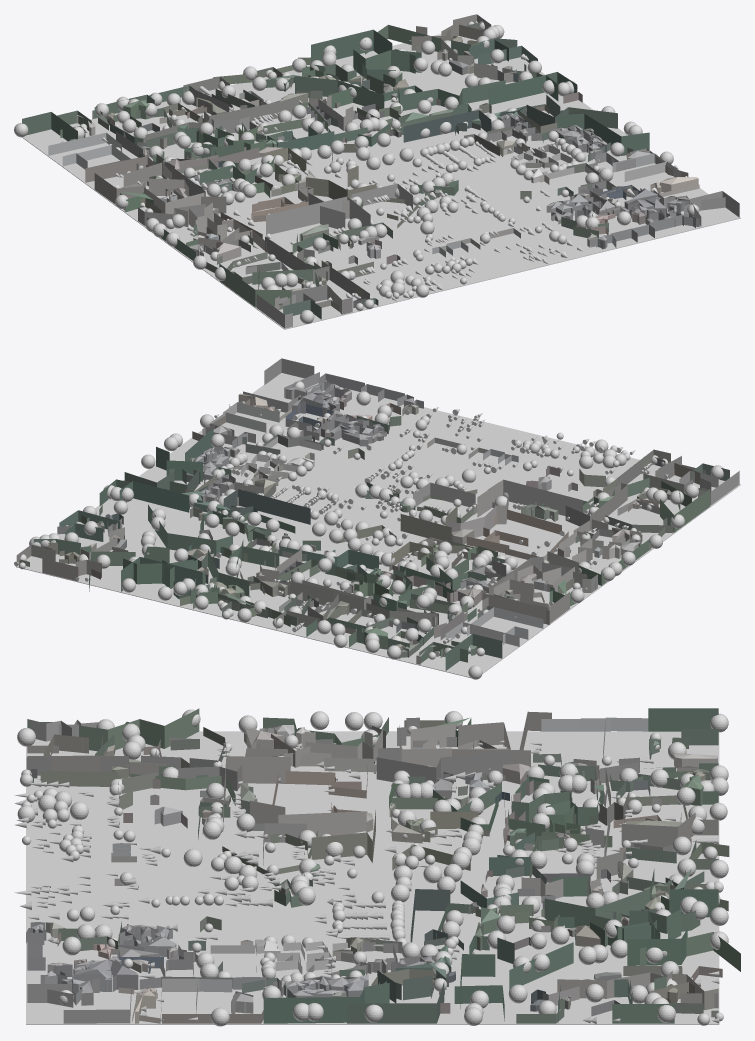
File: scene_708a0c65-cbf0-4152-a4fa-0bda576c6d15.glb
3 renders of one model, top to bottom at view 1: azimuth 30°, elevation 25°; view 2: azimuth 150°, elevation 25°; view 3: azimuth 270°, elevation 25°, orthographic. The views are drawn at different scales.
Visible parts, largest first — view 1: Ground_Base, BLD-278, BLD-018, BLD-230, BLD-025, BLD-126, BLD-135, BLD-184, BLD-051, BLD-183, BLD-192, BLD-154 (+22 smaller); view 2: Ground_Base, BLD-278, BLD-183, BLD-135, BLD-018, BLD-184, BLD-230, BLD-126, BLD-154, BLD-211, BLD-043, BLD-033 (+25 smaller); view 3: Ground_Base, BLD-192, BLD-230, BLD-188, BLD-246, BLD-366, BLD-018, BLD-051, BLD-319, BLD-184, BLD-043, BLD-135 (+51 smaller).
Boxes of the visible parts, x1,y1,x2,y2 form: Ground_Base: (22,34,740,329); BLD-278: (266,196,370,235); BLD-018: (190,88,299,124); BLD-230: (557,113,649,155); BLD-025: (311,29,392,62); BLD-126: (398,80,505,110); BLD-135: (94,162,185,203); BLD-184: (144,163,204,214); BLD-051: (295,76,384,108); BLD-183: (403,110,491,142); BLD-192: (526,95,617,128); BLD-154: (488,75,558,104); Ground_Base: (15,373,740,677); BLD-278: (477,479,582,517); BLD-183: (223,489,310,524); BLD-135: (483,571,569,623); BLD-018: (289,573,371,620); BLD-184: (494,565,574,600); BLD-230: (156,428,213,481); BLD-126: (148,504,232,556); BLD-154: (119,481,189,512); BLD-211: (400,506,457,541); BLD-043: (123,558,182,588); BLD-033: (445,634,502,670); Ground_Base: (26,731,719,1024); BLD-192: (347,970,444,1023); BLD-230: (263,983,389,1023); BLD-188: (376,751,512,783); BLD-246: (250,800,366,836); BLD-366: (79,708,199,751); BLD-018: (596,804,695,879); BLD-051: (544,869,654,927); BLD-319: (40,771,157,809); BLD-184: (399,723,509,767); BLD-043: (627,909,687,965); BLD-135: (452,722,530,766).
Size of the model in its own units: 368 by 24.27 by 376.
